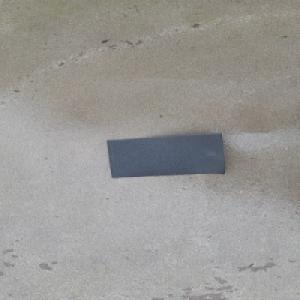PaintChip: (105, 132, 226, 178)
